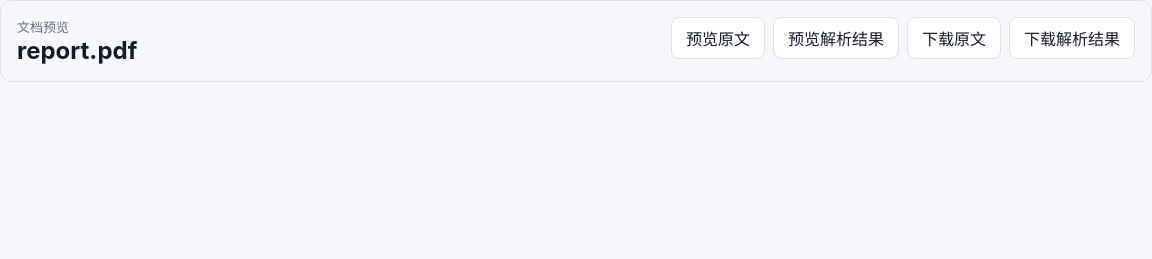
Test: document preview resource safety › renders parsed text as escaped text and only offers supplied asset indexes
What coordinates should you click on to do the following:
click the button named "preview-parsed"
I would click on:
 (836, 38)
Its box is [773,17,899,59].
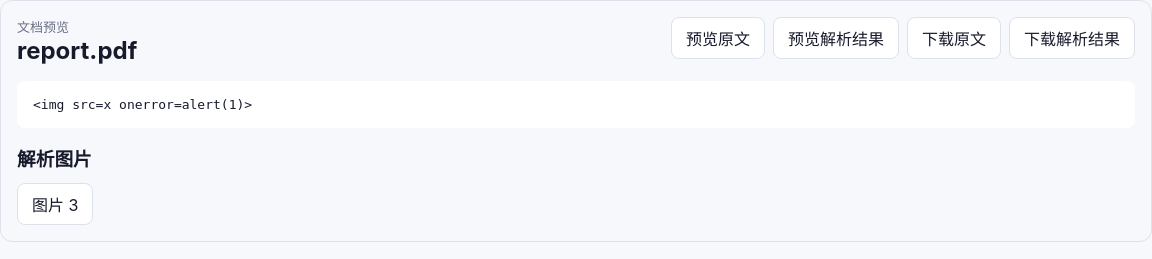
Result: the text "<img src=x onerror=alert(1)>" is shown at [17,81,1135,128]
Result: the text "图片 3" is shown at [17,183,93,225]
